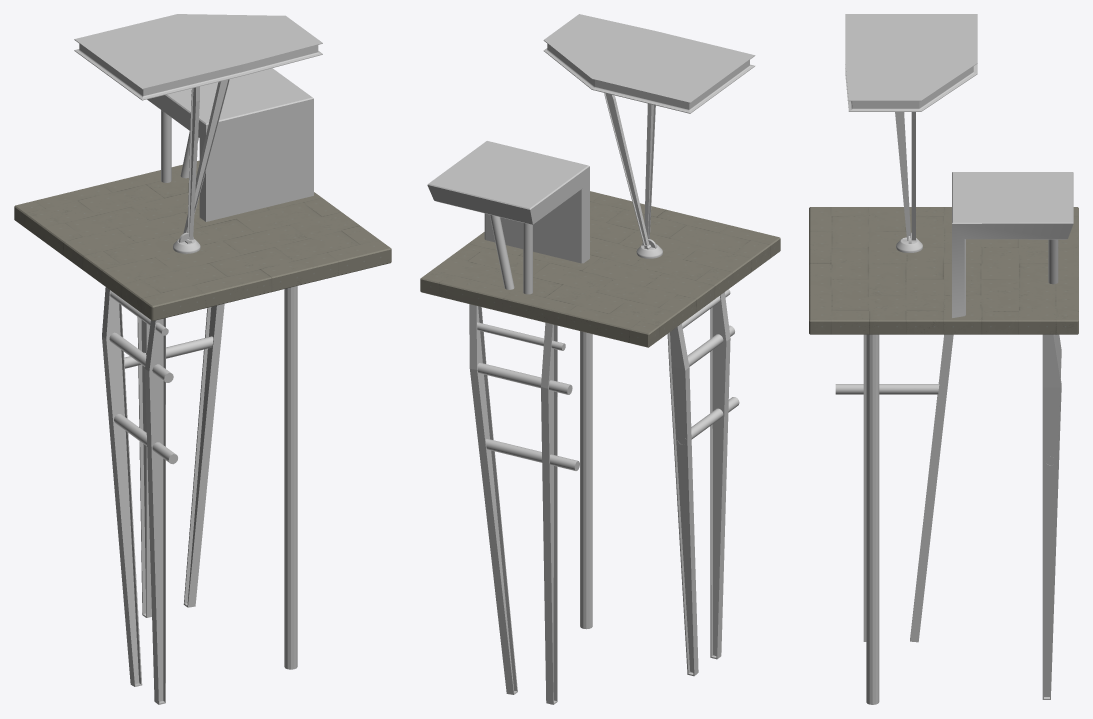
File: PlatformStack3.fbx
The picture shows the model from 3 angles, left to right: view 1: azimuth 30°, elevation 25°; view 2: azimuth 150°, elevation 25°; view 3: azimuth 270°, elevation 25°; orthographic projection. The views are drawn at different scales.
Parts seen in each view (by area): view 1: PlatformStack3_Floor, PlatformMediumOscY, PlatformSmall; view 2: PlatformStack3_Floor, PlatformMediumOscY, PlatformSmall; view 3: PlatformStack3_Floor, PlatformMediumOscY, PlatformSmall.
Boxes of the visible parts, x1,y1,x2,y2 form: PlatformStack3_Floor: [14, 160, 391, 704]; PlatformMediumOscY: [74, 14, 322, 253]; PlatformSmall: [147, 68, 313, 221]; PlatformStack3_Floor: [420, 191, 780, 704]; PlatformMediumOscY: [543, 14, 755, 258]; PlatformSmall: [427, 141, 589, 294]; PlatformStack3_Floor: [809, 207, 1078, 704]; PlatformMediumOscY: [845, 14, 977, 252]; PlatformSmall: [952, 172, 1073, 317].
Size of the model in its own units: 500 by 1253 by 500.
